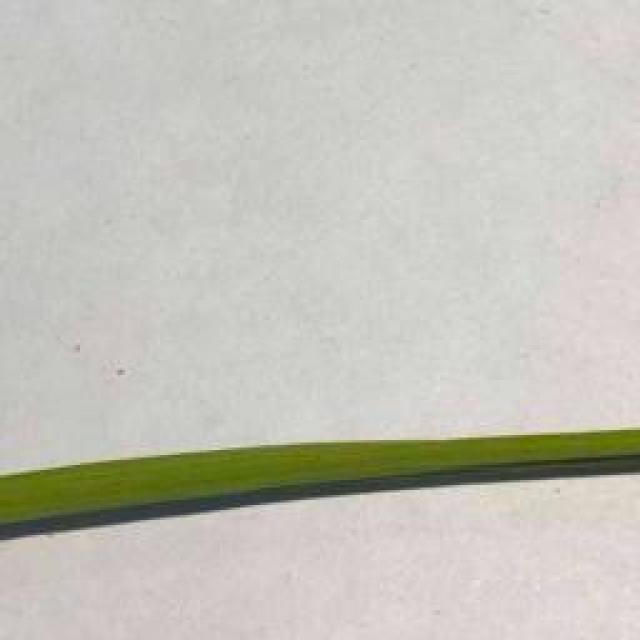Healthy-Plant: (0, 424, 640, 536)
